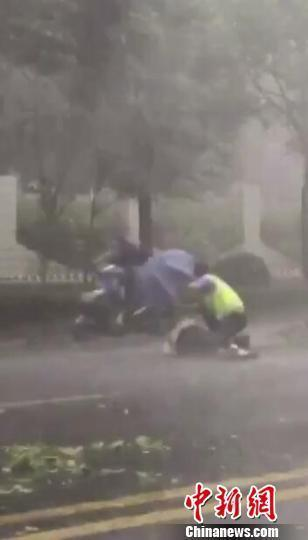Fall-Detected: (159, 314, 239, 357)
